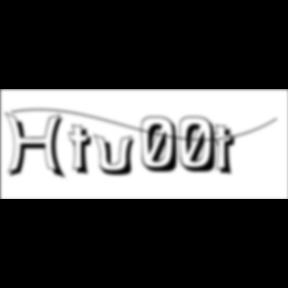0: (140, 115, 186, 174), (180, 115, 224, 174)
H: (5, 112, 71, 182)
t: (68, 124, 100, 179), (212, 124, 243, 179)
u: (93, 132, 141, 178)
